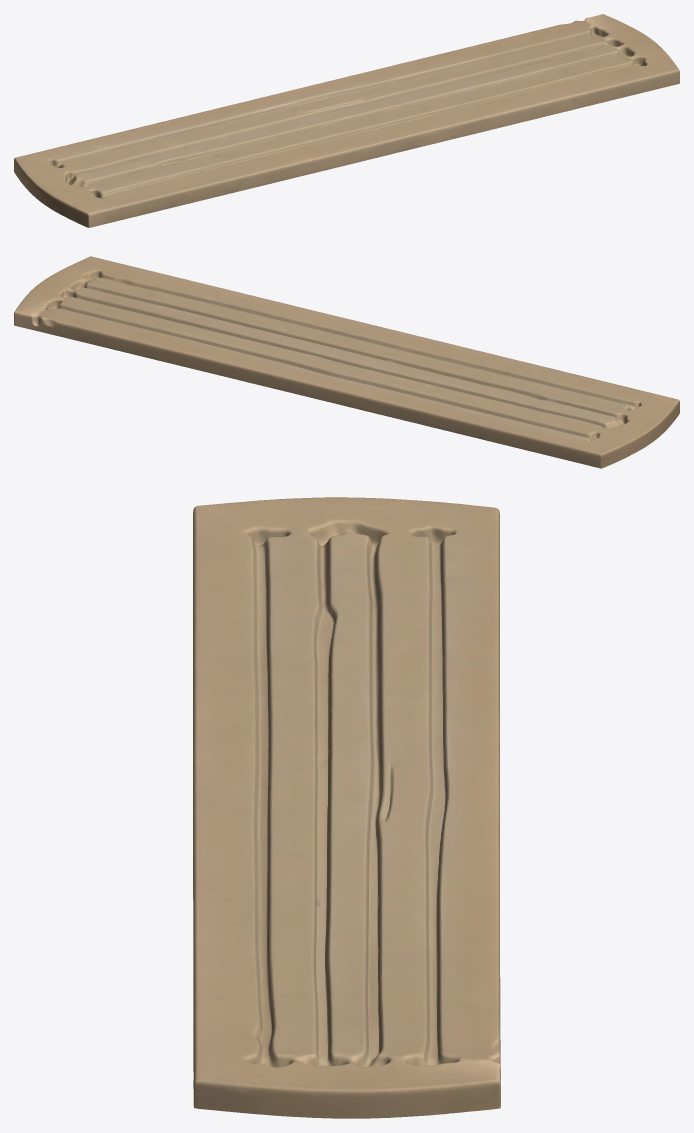
The model's file is tonkori.glb.
3 renders of one model, top to bottom at view 1: azimuth 30°, elevation 25°; view 2: azimuth 150°, elevation 25°; view 3: azimuth 270°, elevation 25°, orthographic. The views are drawn at different scales.
Parts seen in each view (by area): view 1: model; view 2: model; view 3: model.
Boxes of the visible parts, bbox=[...] form: model: bbox=[14, 14, 679, 227]; model: bbox=[14, 256, 679, 468]; model: bbox=[193, 497, 500, 1118].
Size of the model in its own units: 1.11 by 0.0247 by 0.2431.
1 material, 1 textured.
